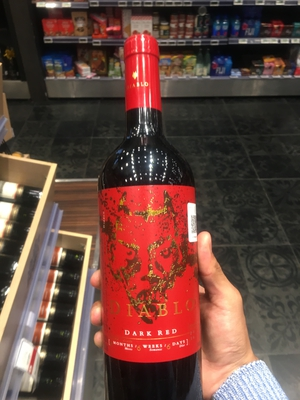diablo dark red: (89, 33, 206, 400)
